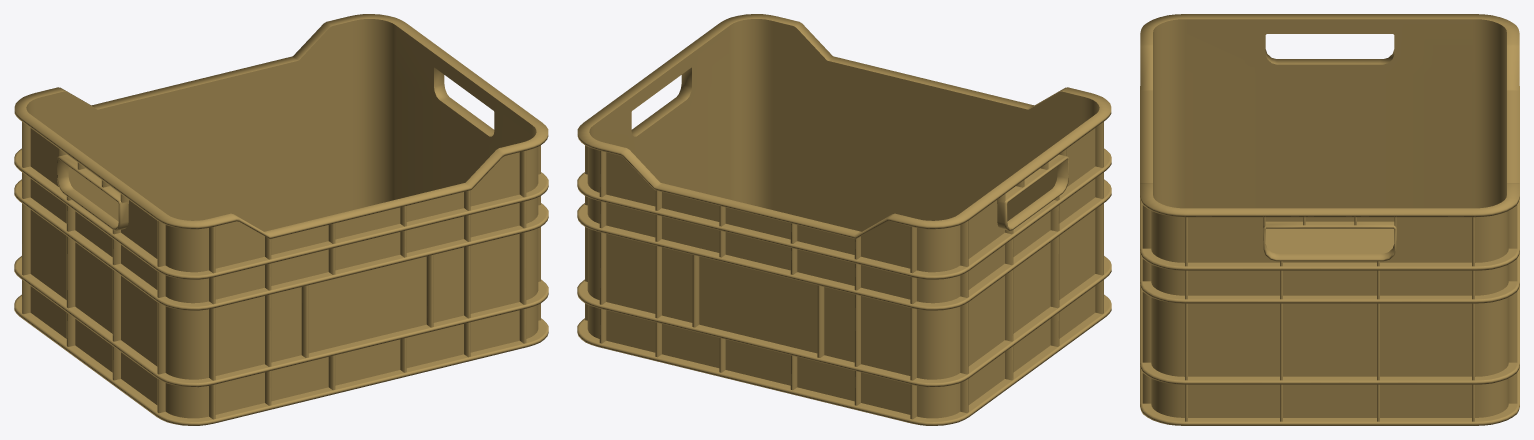
The model's file is plastic_crate_02_2k.fbx.
The picture shows the model from 3 angles, left to right: view 1: azimuth 30°, elevation 25°; view 2: azimuth 150°, elevation 25°; view 3: azimuth 270°, elevation 25°; orthographic projection. The views are drawn at different scales.
Parts seen in each view (by area): view 1: plastic_crate_02; view 2: plastic_crate_02; view 3: plastic_crate_02.
Boxes of the visible parts, left/top/right/bottom form: plastic_crate_02: left=14, top=14, right=548, bottom=425; plastic_crate_02: left=577, top=14, right=1111, bottom=425; plastic_crate_02: left=1140, top=14, right=1519, bottom=425.
Size of the model in its own units: 50.55 by 25.41 by 40.55.
